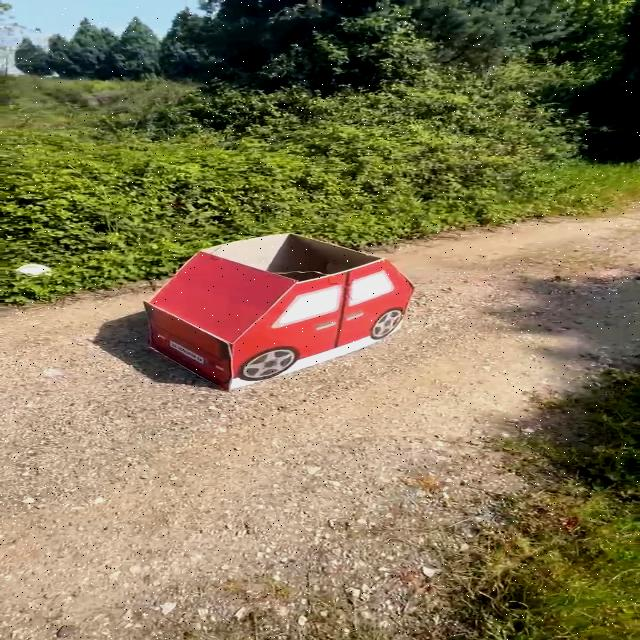red_car: (97, 224, 432, 402)
